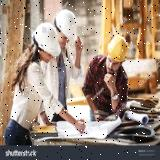Helmet: (34, 22, 62, 57), (56, 8, 78, 42), (108, 35, 129, 63)
